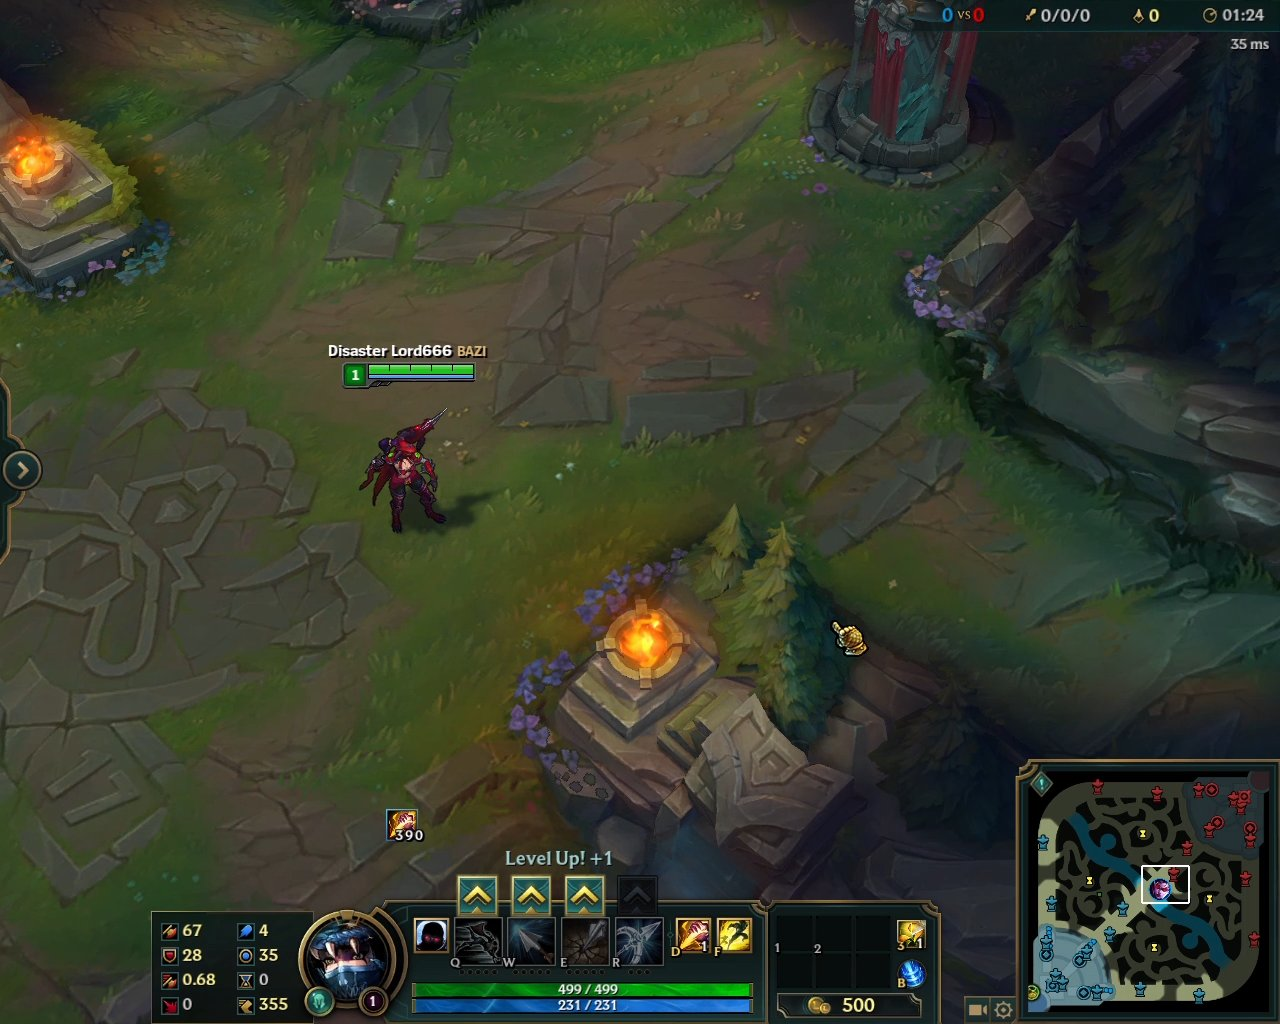Vayne: (356, 399, 457, 541)
